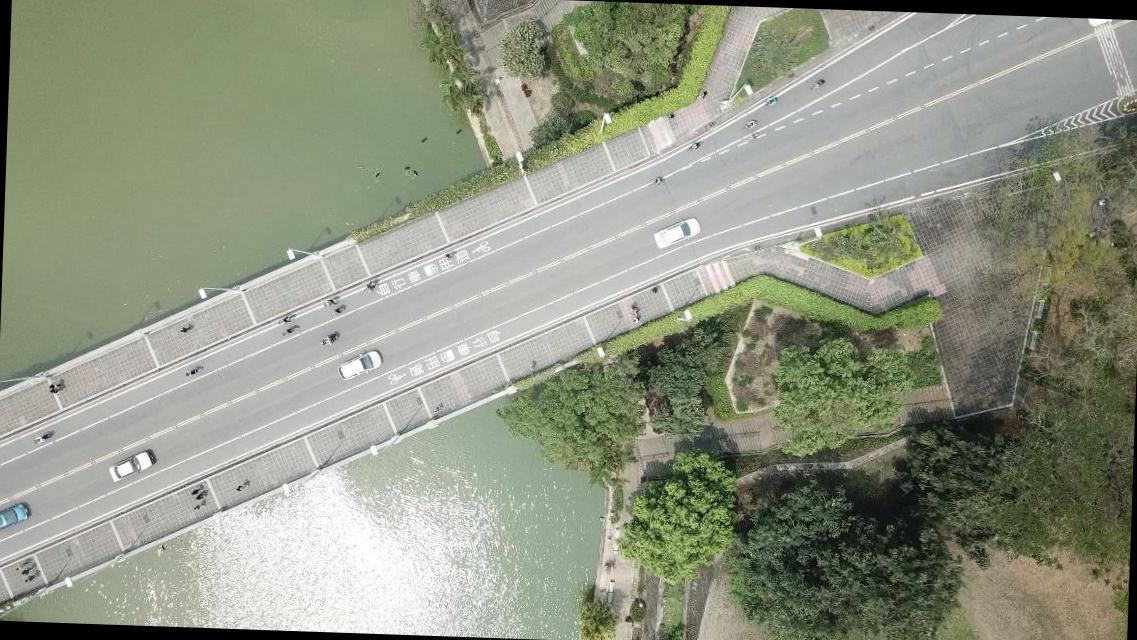vehicle: (651, 214, 700, 250), (108, 448, 157, 483), (338, 349, 382, 382), (0, 500, 29, 535)
